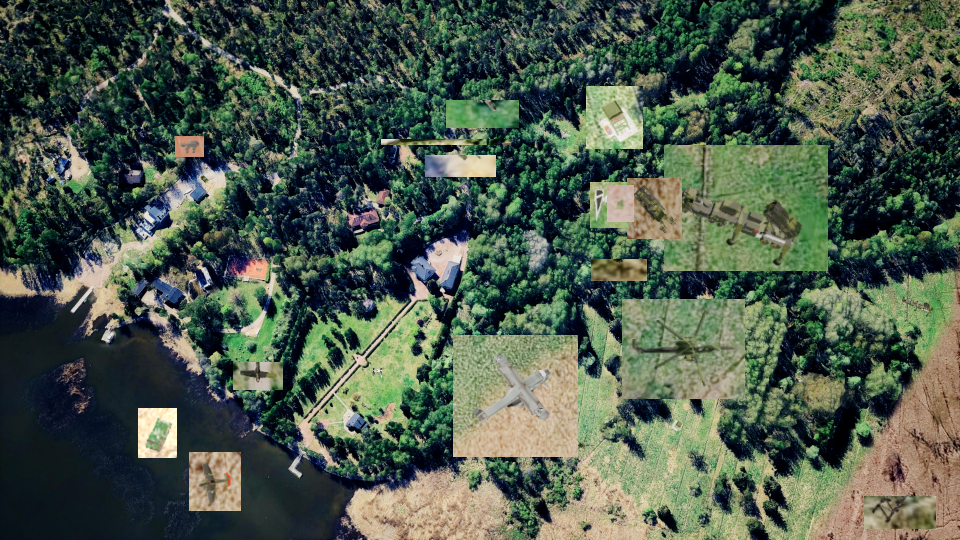condor: (453, 335, 578, 457)
hangar: (381, 139, 511, 145)
helicopter: (622, 299, 745, 399)
jammer: (138, 408, 177, 458)
jet_plane: (446, 100, 519, 128)
large_launcher: (664, 145, 828, 271)
large_tower: (864, 496, 936, 529)
medium_launcher: (591, 259, 647, 281)
medium_plane: (233, 362, 283, 390)
mine_roller: (627, 178, 682, 239)
small_launcher: (607, 185, 634, 222)
small_plane: (189, 452, 241, 511)
small_tower: (586, 86, 643, 149)
spacecraft: (590, 182, 630, 228)
ta-ta: (175, 136, 204, 157)
tank: (425, 155, 496, 177)
